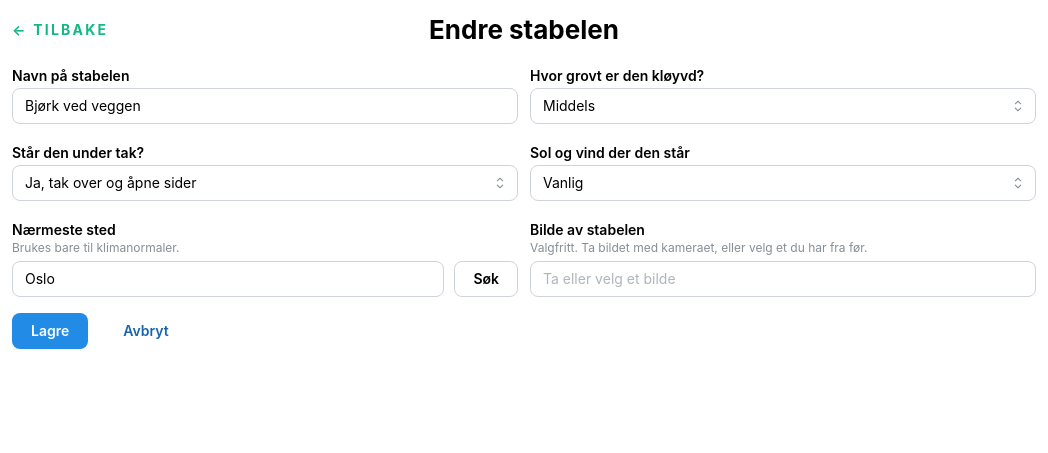
it: EditStackForm › keeps the old location and says so when the climate data cannot be fetched
Replace the text in the field labelled "Navn på stabelen" with "Bjørk bak låven" at (265, 106), box [12,88,518,124]
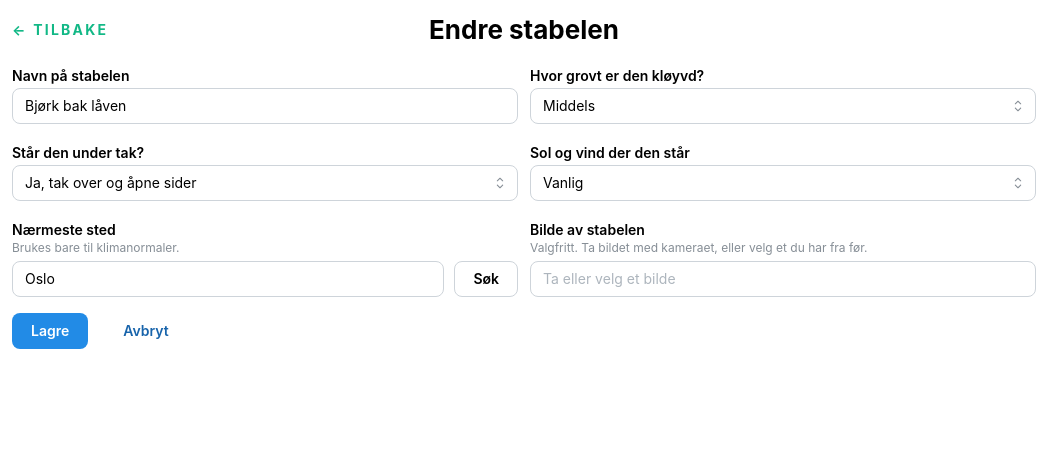
Replace the text in the dropdown labelled "Nærmeste sted" with "Bergen" at (228, 279), box [12,261,444,297]
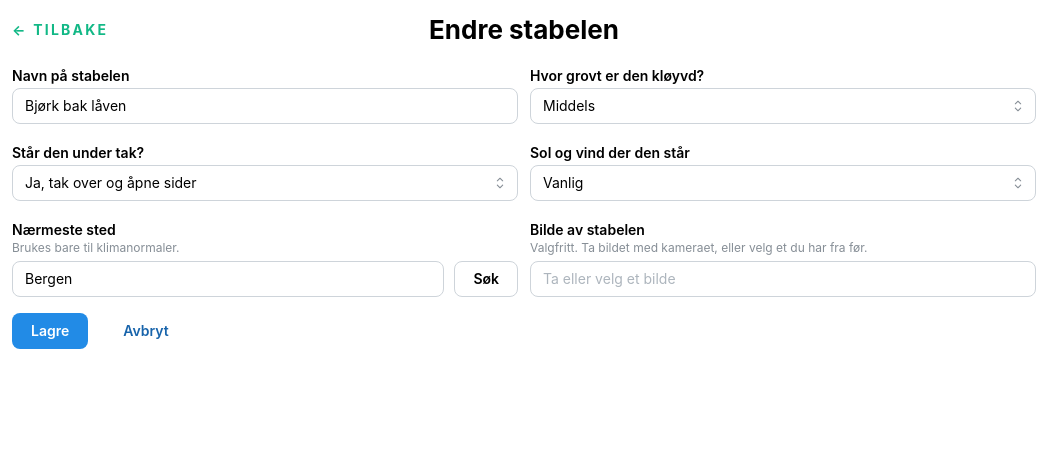
Click the button "Søk" at (486, 279), box [454,261,518,297]
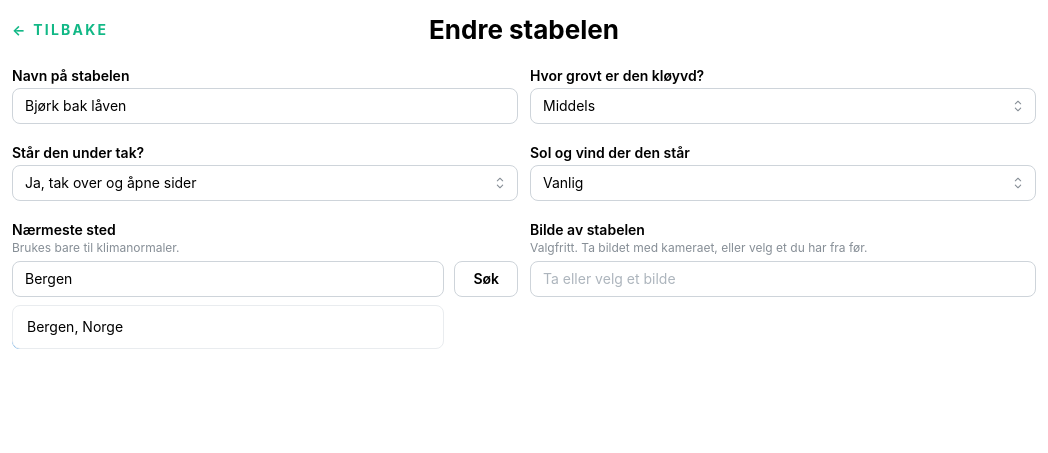
Result: the option "Bergen, Norge" is shown
Click the option "Bergen, Norge" at (75, 326), box [27,318,123,335]
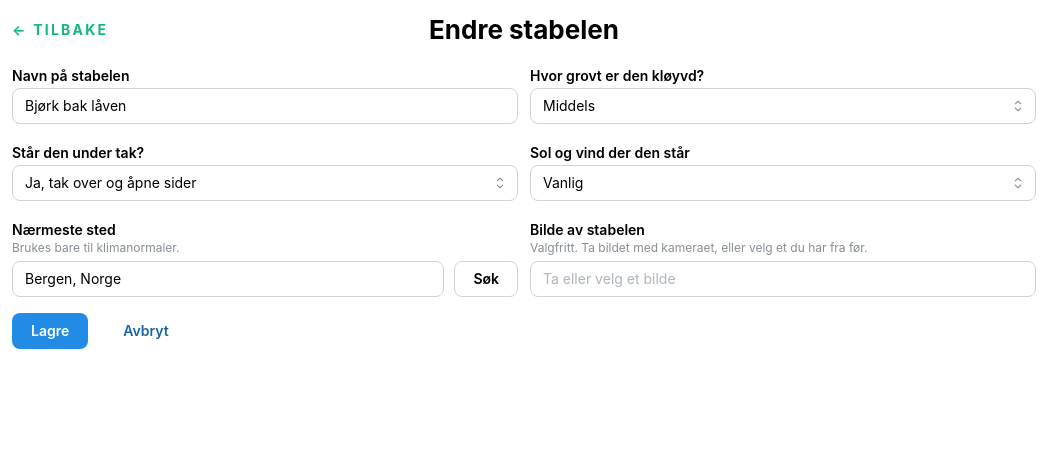
Click the button "Lagre" at (50, 331), box [12,313,88,349]
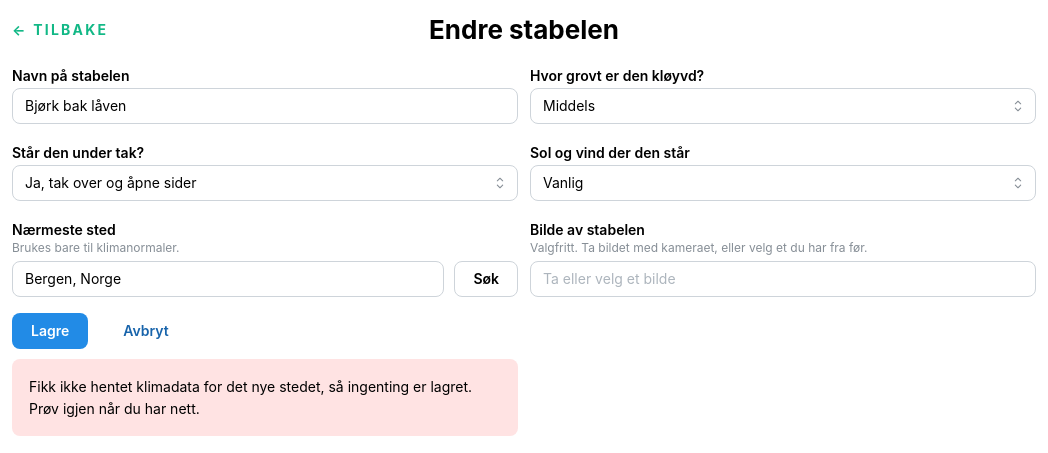
Result: the text "klimadata" is shown at [29,378,472,417]
